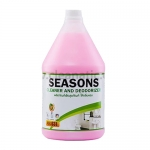Cleaning_solution: (38, 7, 108, 144)
